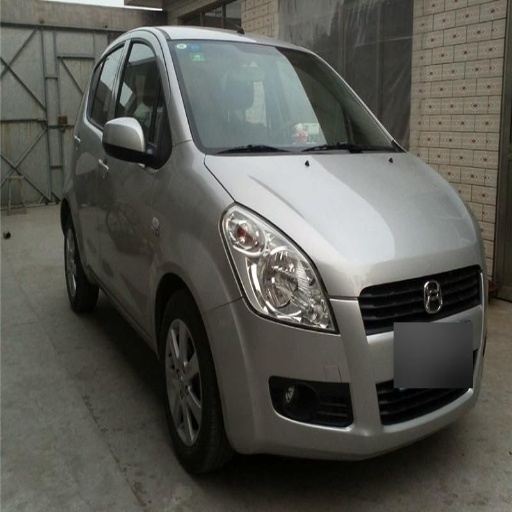front_bumper: (204, 268, 486, 458)
front_right_door: (100, 32, 171, 320)
front_right_light: (222, 206, 337, 333)
